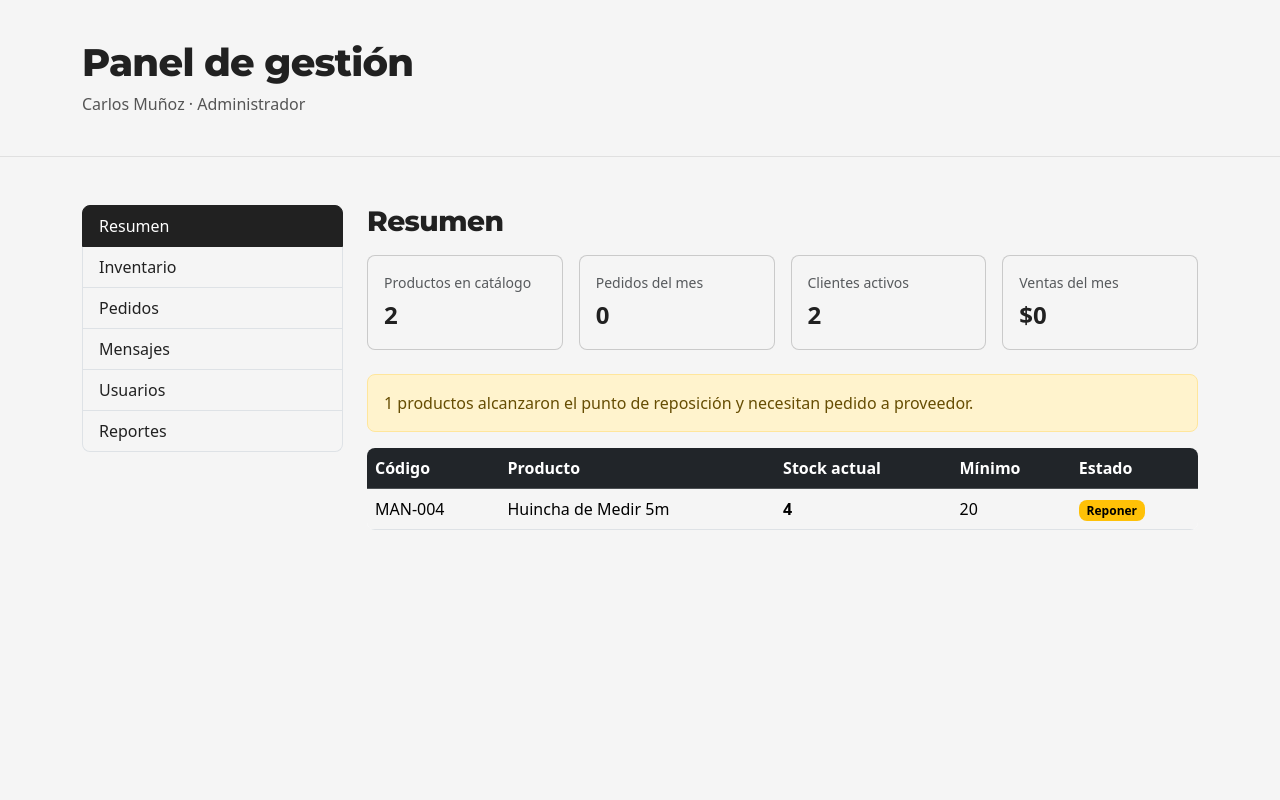
Scenario: Panel › al cambiar el rol manda el usuario completo con el rol nuevo
Expected: the heading "Resumen" is shown, [367, 204, 503, 238]
Click the button "Usuarios" at x=132, y=390, box [82, 370, 343, 411]
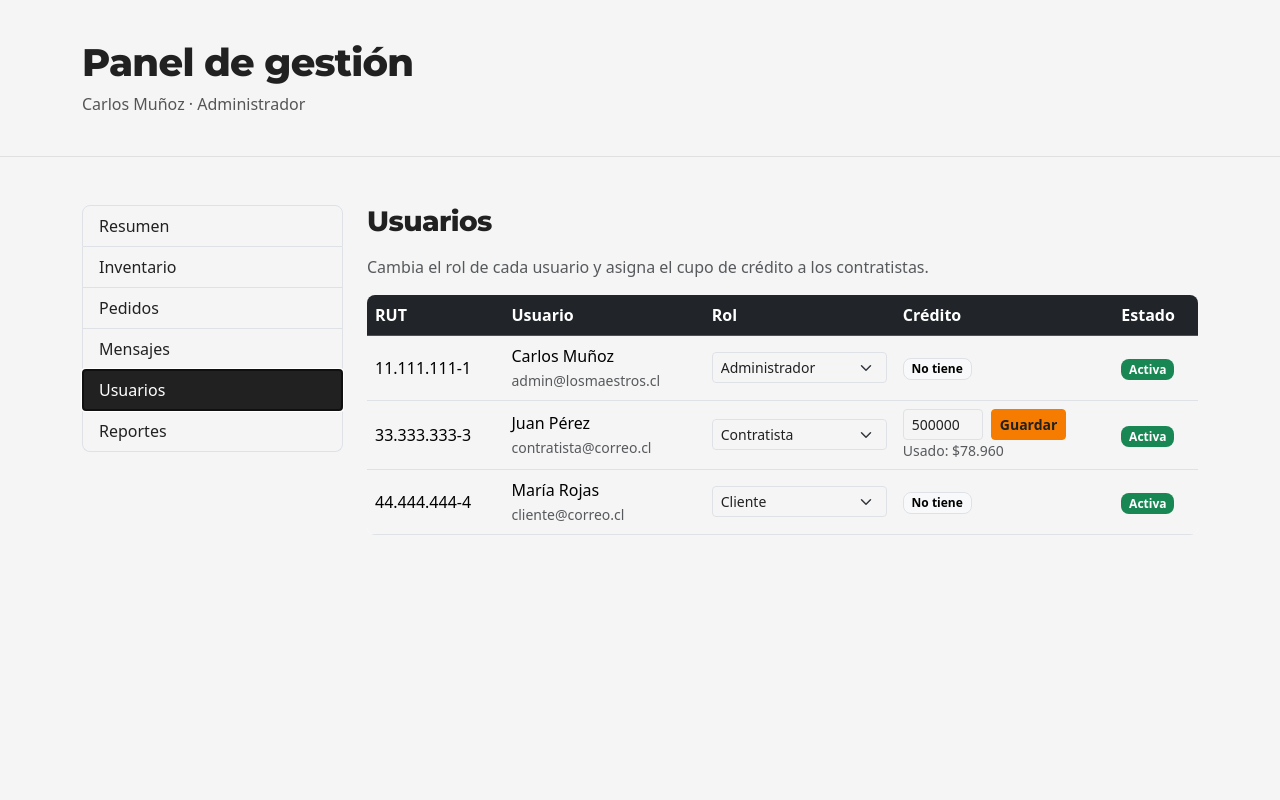
Select "Contratista" in the dropdown named "Rol de María Rojas" at x=799, y=502, box [712, 486, 887, 517]
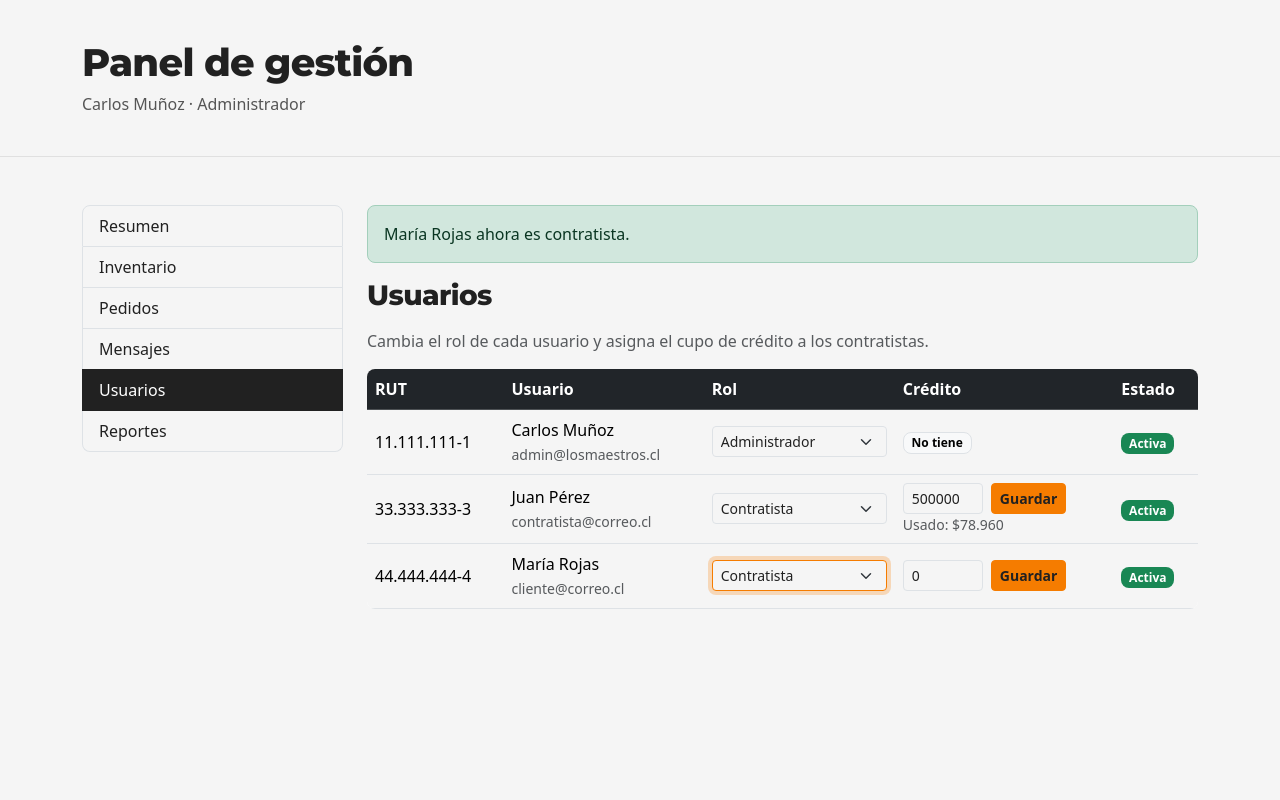
Result: the text "María Rojas ahora es contratista." is shown at [367, 205, 1198, 263]
